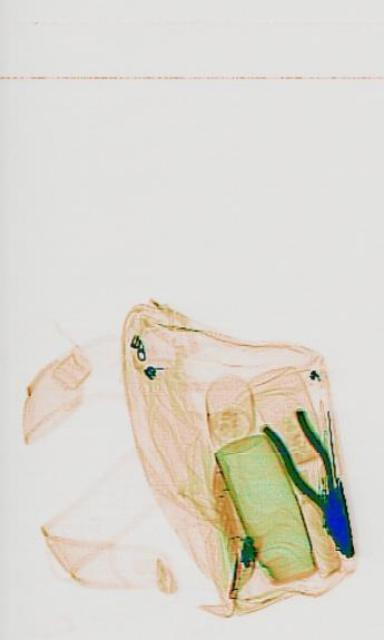Pliers: (260, 388, 368, 576)
